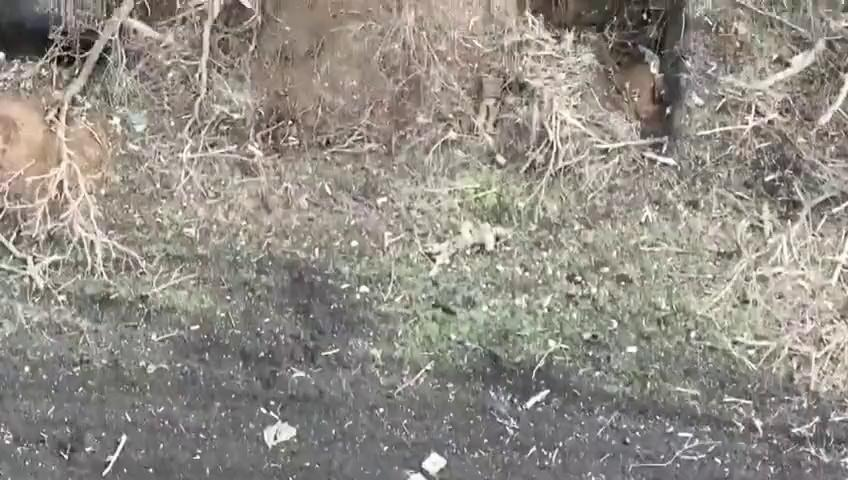person: (423, 219, 505, 267), (475, 64, 505, 138)
